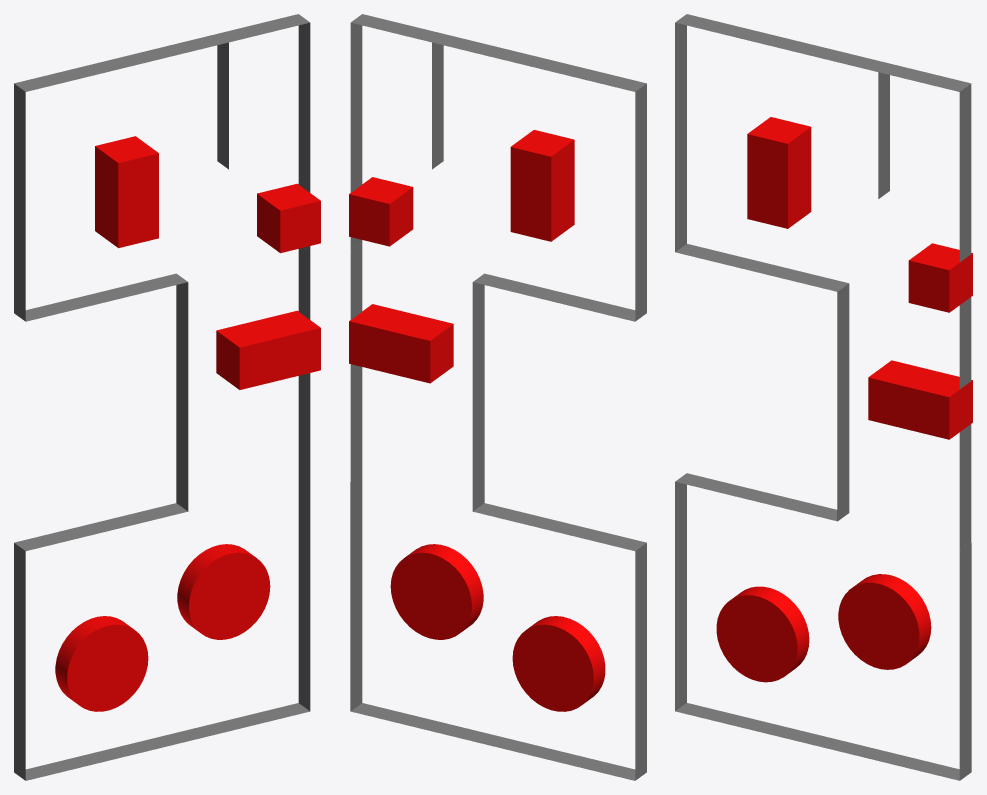
Rendered from Environment map.obj.
3 renders of one model, left to right at view 1: azimuth 30°, elevation 25°; view 2: azimuth 150°, elevation 25°; view 3: azimuth 330°, elevation 25°, orthographic.
Parts seen in each view (by area): view 1: Mesh (17), Mesh (16), Mesh (11), Mesh (3), Mesh (9), Mesh (0), Mesh (14), Mesh (15), Mesh (6), Mesh (1), Mesh (8), Mesh (13) (+6 smaller); view 2: Mesh (16), Mesh (17), Mesh (11), Mesh (3), Mesh (9), Mesh (0), Mesh (14), Mesh (15), Mesh (6), Mesh (8), Mesh (1), Mesh (13) (+6 smaller); view 3: Mesh (16), Mesh (17), Mesh (3), Mesh (9), Mesh (10), Mesh (0), Mesh (14), Mesh (6), Mesh (15), Mesh (8), Mesh (11), Mesh (1) (+6 smaller).
Part boxes in pixels (x1,y1,x2,y2): Mesh (17): [177, 544, 270, 639]; Mesh (16): [55, 616, 148, 711]; Mesh (11): [216, 320, 280, 389]; Mesh (3): [95, 136, 158, 205]; Mesh (9): [257, 183, 320, 253]; Mesh (0): [14, 14, 309, 91]; Mesh (14): [25, 703, 309, 780]; Mesh (15): [298, 474, 310, 710]; Mesh (6): [176, 282, 188, 511]; Mesh (1): [14, 84, 25, 321]; Mesh (8): [95, 189, 158, 248]; Mesh (13): [14, 543, 25, 780]; Mesh (16): [512, 616, 605, 711]; Mesh (17): [390, 544, 483, 639]; Mesh (11): [389, 314, 453, 383]; Mesh (3): [510, 130, 574, 199]; Mesh (9): [349, 177, 413, 246]; Mesh (0): [351, 14, 646, 91]; Mesh (14): [351, 703, 635, 780]; Mesh (15): [350, 474, 362, 711]; Mesh (6): [472, 282, 484, 511]; Mesh (8): [510, 182, 574, 241]; Mesh (1): [635, 83, 646, 321]; Mesh (13): [635, 543, 646, 780]; Mesh (16): [716, 586, 809, 682]; Mesh (17): [838, 574, 931, 669]; Mesh (3): [747, 117, 811, 186]; Mesh (9): [908, 243, 972, 312]; Mesh (10): [908, 370, 972, 439]; Mesh (0): [675, 14, 970, 91]; Mesh (14): [675, 703, 959, 780]; Mesh (6): [837, 283, 849, 521]; Mesh (15): [959, 543, 971, 780]; Mesh (8): [747, 169, 811, 228]; Mesh (11): [868, 360, 931, 429]; Mesh (1): [675, 22, 686, 251].
Bounding box in the file's own units: 7007 × 16198 × 1008.
